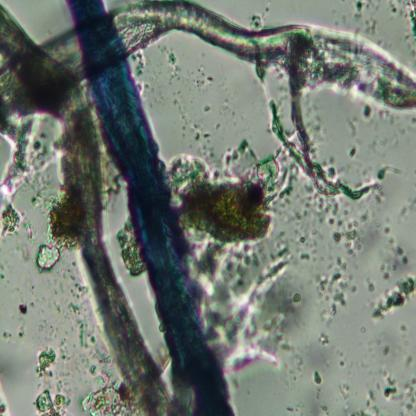Background material: (162, 140, 276, 242), (212, 247, 286, 365), (0, 118, 51, 203), (47, 190, 83, 259), (77, 322, 112, 379), (82, 379, 131, 416), (329, 212, 372, 253), (372, 278, 416, 318), (117, 219, 146, 278), (319, 272, 355, 319), (0, 345, 34, 386), (28, 170, 61, 212), (31, 386, 72, 416), (273, 162, 300, 207), (384, 220, 410, 266), (378, 365, 405, 405), (0, 204, 26, 238), (37, 344, 60, 381), (191, 129, 215, 162), (295, 196, 323, 224), (38, 245, 62, 275), (399, 376, 416, 416), (353, 388, 376, 416), (286, 348, 306, 378), (68, 282, 84, 312), (193, 64, 215, 85), (21, 217, 36, 246), (0, 380, 11, 416), (136, 52, 150, 77), (405, 0, 416, 31), (377, 166, 405, 178), (168, 53, 180, 78), (251, 12, 263, 34), (379, 262, 392, 282), (361, 104, 375, 122), (60, 337, 70, 361), (317, 331, 331, 348), (174, 99, 185, 119), (348, 117, 358, 138), (353, 0, 363, 18), (52, 298, 63, 314), (313, 369, 323, 386), (301, 252, 314, 265), (19, 300, 29, 316), (367, 275, 375, 294), (366, 20, 376, 35), (378, 111, 390, 123), (379, 344, 390, 356), (348, 146, 358, 158), (403, 356, 413, 368), (294, 292, 302, 306), (367, 0, 377, 10), (321, 404, 330, 415), (202, 103, 211, 114), (286, 403, 294, 415), (1, 332, 12, 340), (338, 359, 346, 369), (403, 33, 411, 42), (390, 2, 396, 14), (181, 124, 186, 136), (14, 330, 22, 337), (360, 326, 367, 334), (411, 117, 416, 127), (377, 38, 383, 46), (300, 235, 306, 242), (215, 123, 222, 129), (400, 324, 405, 332), (411, 49, 416, 56), (334, 20, 339, 24)
Cellulose filter fibre: (0, 3, 173, 416), (0, 0, 416, 123), (261, 89, 376, 208)
Cotton: (67, 0, 235, 414)
